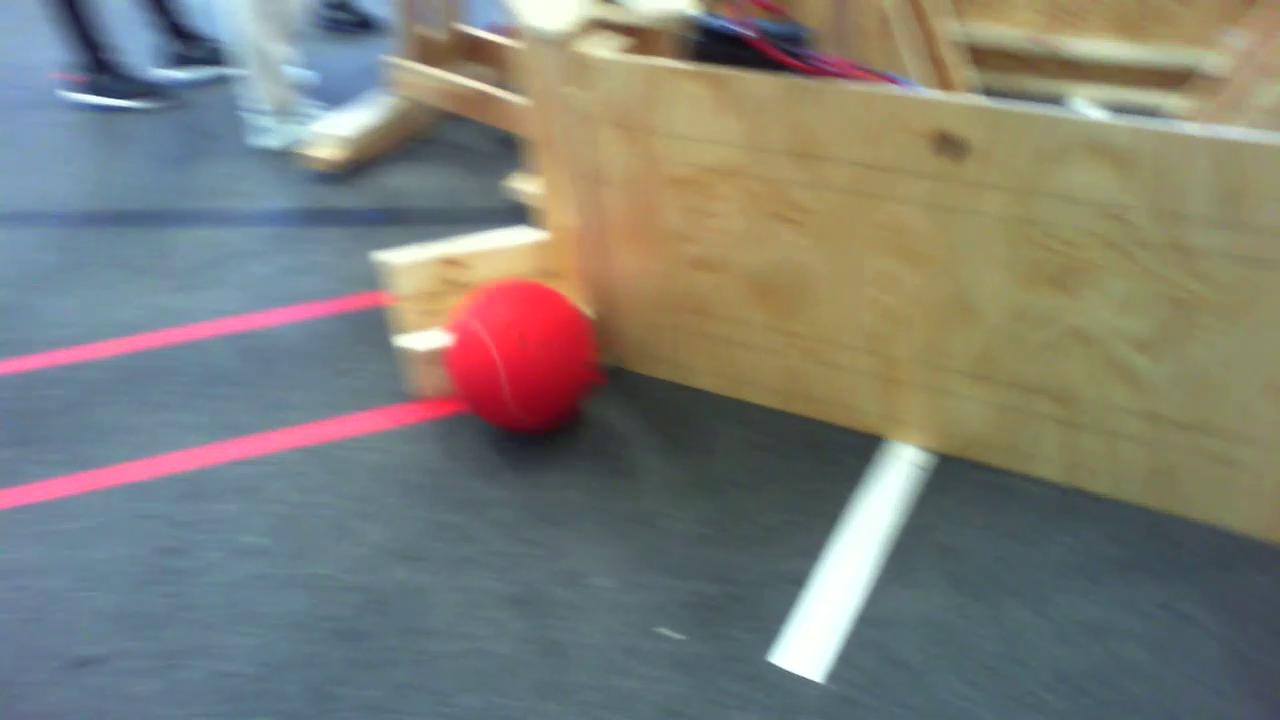Red_Ball: (432, 277, 613, 451)
